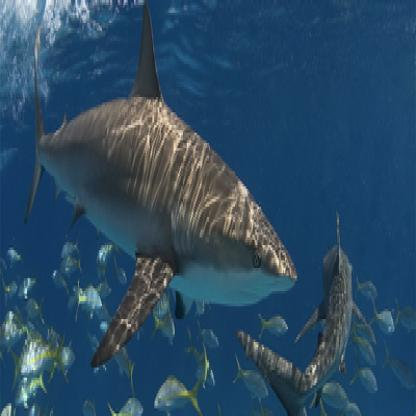Shark -Selachimorpha-: (28, 1, 297, 369), (237, 208, 355, 414)
